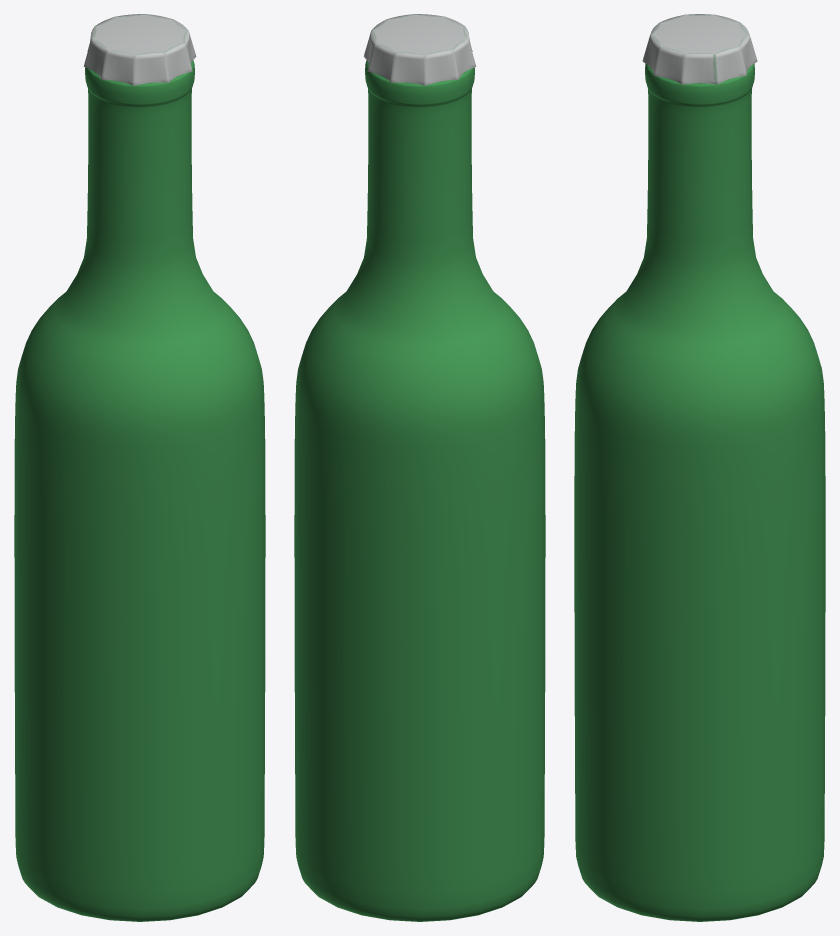
3 views of the same model, side by side, from view 1: azimuth 30°, elevation 25°; view 2: azimuth 150°, elevation 25°; view 3: azimuth 270°, elevation 25° (orthographic).
Visible parts, largest first — view 1: botellin_geo, chapa_geo; view 2: botellin_geo, chapa_geo; view 3: botellin_geo, chapa_geo.
Boxes of the visible parts, box(x1,y1,x2,y2) form: botellin_geo: box(14, 60, 265, 921); chapa_geo: box(83, 14, 196, 85); botellin_geo: box(294, 60, 545, 921); chapa_geo: box(363, 14, 476, 85); botellin_geo: box(574, 63, 825, 921); chapa_geo: box(642, 14, 757, 84).
Bounding box in the file's own units: 0.861 × 3.19 × 0.861.
Materials: 1 (1 with a texture image).
